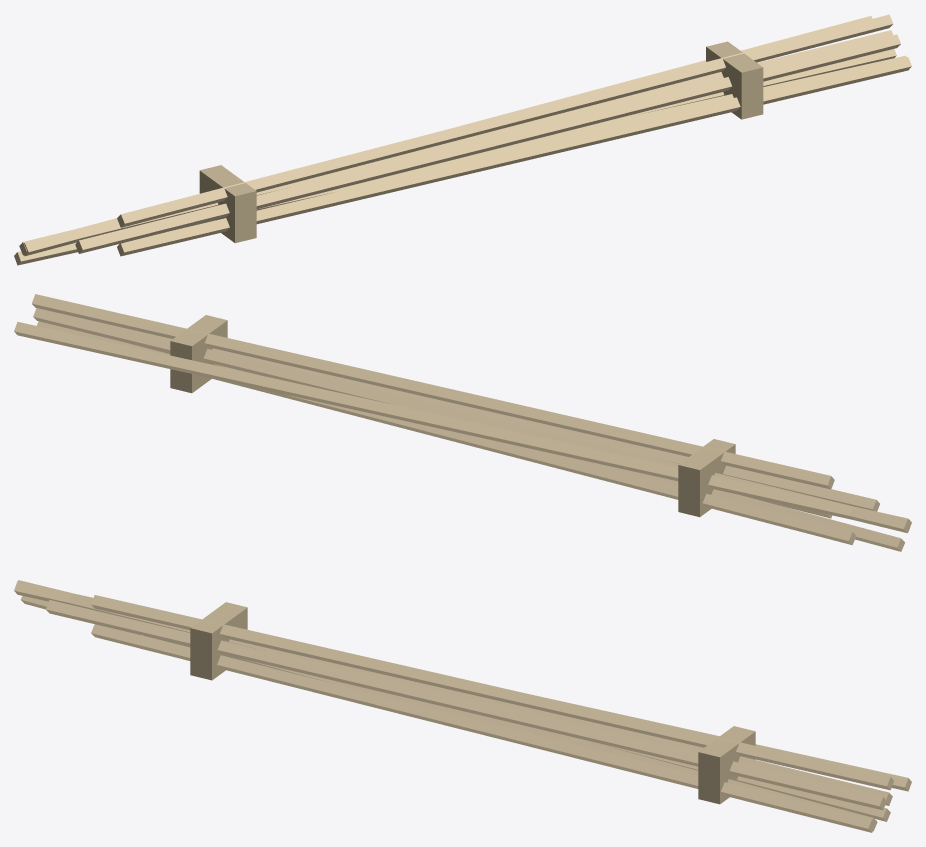
File: prop-willow-bundle.fbx
3 views of the same model, one above another, from view 1: azimuth 30°, elevation 25°; view 2: azimuth 150°, elevation 25°; view 3: azimuth 330°, elevation 25° (orthographic).
Visible parts, largest first — view 1: prop-willow-bundle; view 2: prop-willow-bundle; view 3: prop-willow-bundle.
Part boxes in pixels (x1,y1,x2,y2): prop-willow-bundle: [14, 14, 911, 265]; prop-willow-bundle: [14, 294, 911, 551]; prop-willow-bundle: [14, 580, 911, 832].
Bounding box in the file's own units: 120 × 6.3 × 10.57.
